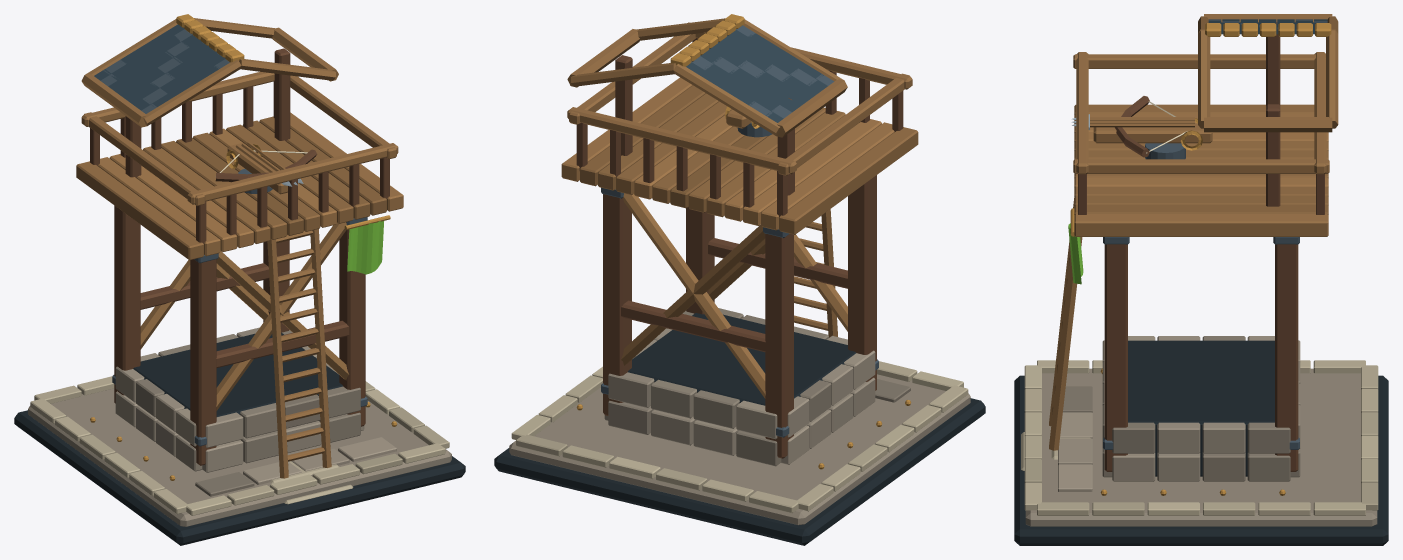
File: archer__patrulheira__L05.glb
3 views of the same model, side by side, from view 1: azimuth 30°, elevation 25°; view 2: azimuth 150°, elevation 25°; view 3: azimuth 270°, elevation 25° (orthographic). The views are drawn at different scales.
Parts seen in each view (by area): view 1: structure, weapon, banners; view 2: structure, weapon; view 3: structure, weapon, banners.
Boxes of the visible parts, x1,y1,x2,y2 form: structure: [14, 14, 465, 545]; weapon: [215, 142, 316, 194]; banners: [344, 215, 390, 274]; structure: [494, 14, 985, 545]; weapon: [725, 106, 772, 137]; structure: [1014, 14, 1388, 545]; weapon: [1071, 96, 1212, 159]; banners: [1068, 208, 1083, 284].
Bounding box in the file's own units: 0.803 × 1.05 × 0.803.
